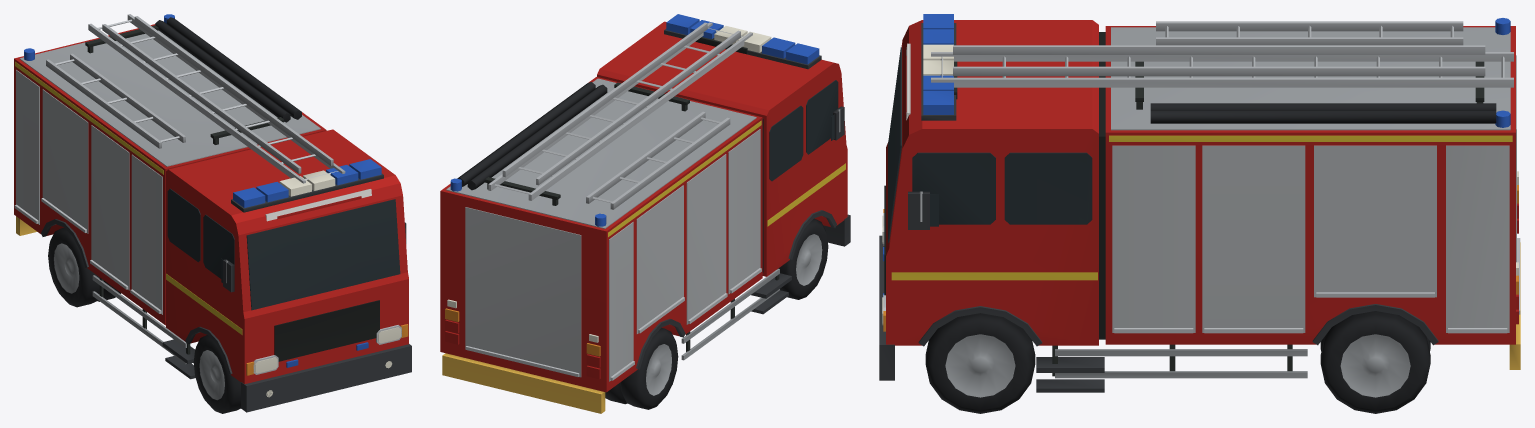
The model's file is fireEngine.far.glb.
3 renders of one model, left to right at view 1: azimuth 30°, elevation 25°; view 2: azimuth 150°, elevation 25°; view 3: azimuth 270°, elevation 25°, orthographic. The views are drawn at different scales.
Parts seen in each view (by area): view 1: fireEngine_far; view 2: fireEngine_far; view 3: fireEngine_far.
Part boxes in pixels (x1,y1,x2,y2): fireEngine_far: [14, 14, 411, 413]; fireEngine_far: [440, 14, 850, 413]; fireEngine_far: [879, 14, 1520, 413].
Size of the model in its own units: 2.51 by 3.17 by 5.84.
